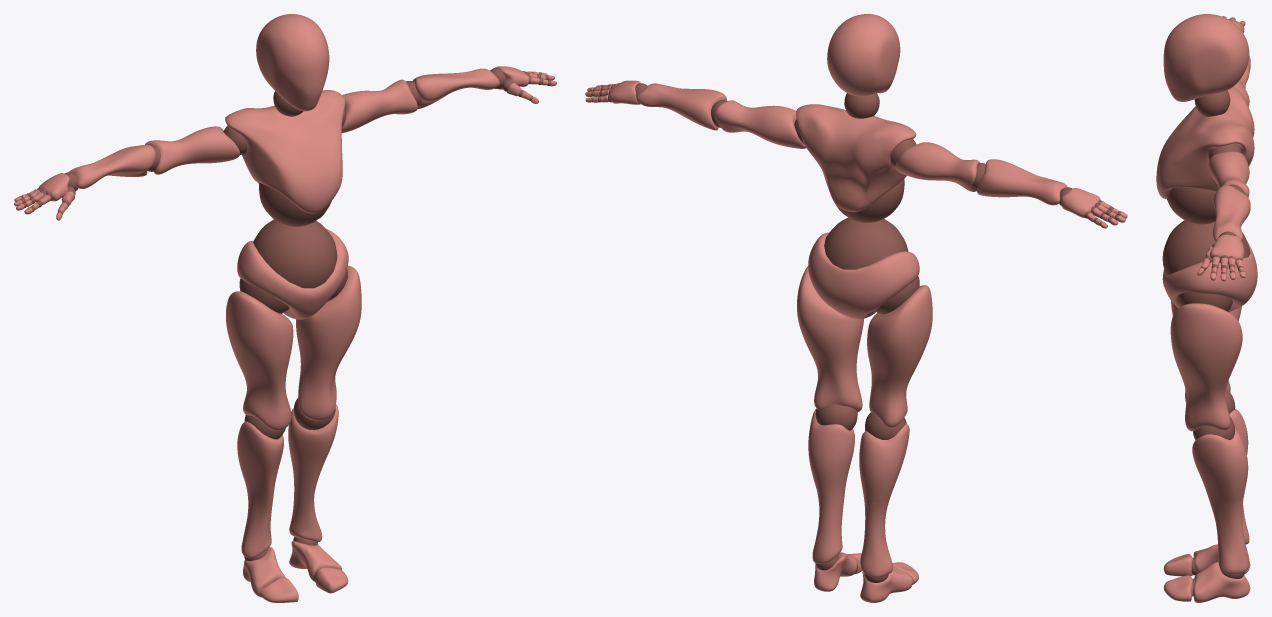
The model's file is player.fbx.
3 views of the same model, side by side, from view 1: azimuth 30°, elevation 25°; view 2: azimuth 150°, elevation 25°; view 3: azimuth 270°, elevation 25° (orthographic).
Visible parts, largest first — view 1: Plexo, Muslo_2, Muslo, Cabeza, Cadera_2, Espinilla, Espinila, Cadera, Humero_2, Humero, Cubito_2, Cubito (+4 smaller); view 2: Plexo, Muslo_2, Muslo, Cadera, Cabeza, Espinila, Espinilla, Cadera_2, Humero, Humero_2, Cubito_2, Cubito (+6 smaller); view 3: Muslo, Cabeza, Plexo, Espinila, Cadera_2, Cadera, Cubito, Pie, Plexo_2, Humero, Cuello, Palma (+9 smaller).
Boxes of the visible parts, left/top/right/bottom form: Plexo: left=225, top=90, right=345, bottom=213; Muslo_2: left=226, top=291, right=293, bottom=430; Muslo: left=296, top=265, right=361, bottom=420; Cabeza: left=256, top=14, right=329, bottom=111; Cadera_2: left=239, top=219, right=347, bottom=313; Espinilla: left=237, top=421, right=283, bottom=558; Espinila: left=288, top=404, right=338, bottom=541; Cadera: left=237, top=228, right=348, bottom=319; Humero_2: left=145, top=126, right=239, bottom=174; Humero: left=341, top=79, right=417, bottom=133; Cubito_2: left=68, top=144, right=155, bottom=188; Cubito: left=412, top=68, right=499, bottom=109; Plexo: left=796, top=104, right=916, bottom=212; Muslo_2: left=867, top=285, right=932, bottom=427; Muslo: left=797, top=266, right=863, bottom=411; Cadera: left=808, top=232, right=919, bottom=319; Cabeza: left=827, top=14, right=900, bottom=96; Espinila: left=808, top=408, right=854, bottom=563; Espinilla: left=859, top=424, right=909, bottom=577; Cadera_2: left=824, top=217, right=919, bottom=314; Humero: left=715, top=100, right=806, bottom=148; Humero_2: left=895, top=142, right=979, bottom=191; Cubito_2: left=977, top=159, right=1067, bottom=205; Cubito: left=637, top=83, right=726, bottom=130; Muslo: left=1170, top=303, right=1242, bottom=431; Cabeza: left=1163, top=14, right=1249, bottom=101; Plexo: left=1156, top=86, right=1254, bottom=198; Espinila: left=1192, top=428, right=1249, bottom=574; Cadera_2: left=1162, top=220, right=1250, bottom=311; Cadera: left=1162, top=241, right=1257, bottom=312; Cubito: left=1213, top=185, right=1250, bottom=241; Pie: left=1193, top=561, right=1250, bottom=602; Plexo_2: left=1167, top=187, right=1215, bottom=224; Humero: left=1208, top=151, right=1249, bottom=197; Cuello: left=1194, top=90, right=1230, bottom=116; Palma: left=1210, top=234, right=1244, bottom=263.
Bounding box in the file's own units: 179 × 181 × 29.15.
